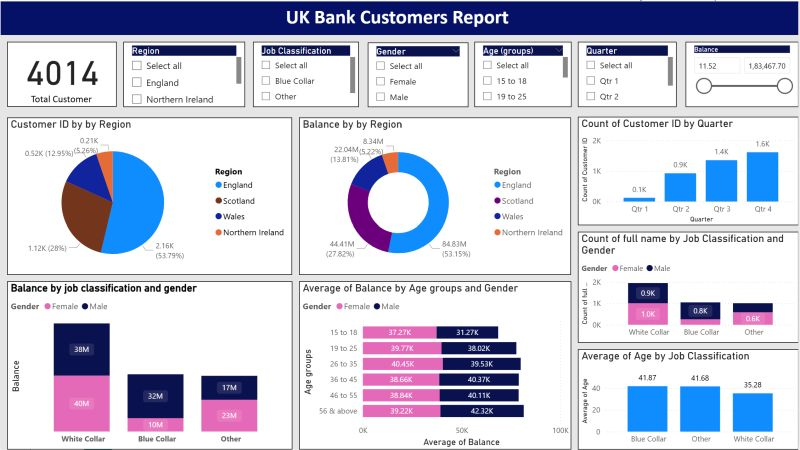

Layout of this report page (visuals, bound fields, positions):
{"tool":"powerbi","page":{"name":"Page 1","canvas":[1280,720],"ordinal":0},"visuals":[{"type":"card","fields":{"Values":["CountNonNull(P6-UK-Bank-Customers.Customer ID)"]},"box":[10.2,65,175.9,104.5],"z":0},{"type":"textbox","box":[0,0,1279.8,53.9],"z":1000},{"type":"pieChart","fields":{"Category":["P6-UK-Bank-Customers.Region"],"Y":["CountNonNull(P6-UK-Bank-Customers.Customer ID)"]},"box":[10.2,186.1,457.7,252.4],"z":2000},{"type":"donutChart","fields":{"Y":["Sum(P6-UK-Bank-Customers.Balance)"],"Category":["P6-UK-Bank-Customers.Region"]},"box":[479.4,186.1,436,252.4],"z":3000},{"type":"columnChart","title":"Balance by job classification and gender","fields":{"Y":["Sum(P6-UK-Bank-Customers.Balance)"],"Category":["P6-UK-Bank-Customers.Job Classification"],"Series":["P6-UK-Bank-Customers.Gender"]},"box":[9.9,449.3,457.8,270.7],"z":4000},{"type":"barChart","title":"Average of Balance by Age groups and Gender","fields":{"Category":["P6-UK-Bank-Customers.Age (groups)"],"Y":["Avg(P6-UK-Bank-Customers.Balance)"],"Series":["P6-UK-Bank-Customers.Gender"]},"box":[479.1,449.3,436.5,270.7],"z":5000},{"type":"columnChart","fields":{"Y":["Count(P6-UK-Bank-Customers.Customer ID)"],"Category":["P6-UK-Bank-Customers.Date Joined.Variation.Date Hierarchy.Quarter"]},"box":[925.5,185.7,354.3,174.3],"z":6000},{"type":"columnChart","fields":{"Y":["CountNonNull(P6-UK-Bank-Customers.Customer ID)"],"Category":["P6-UK-Bank-Customers.Job Classification"],"Series":["P6-UK-Bank-Customers.Gender"]},"box":[925.5,369.9,354.3,178.6],"z":7000},{"type":"clusteredColumnChart","fields":{"Y":["Avg(P6-UK-Bank-Customers.Age)"],"Category":["P6-UK-Bank-Customers.Job Classification"]},"box":[925.5,558.4,354.3,161.6],"z":8000},{"type":"slicer","fields":{"Values":["P6-UK-Bank-Customers.Region"]},"box":[197,65.2,195.6,104.9],"z":9000},{"type":"slicer","fields":{"Values":["P6-UK-Bank-Customers.Job Classification"]},"box":[405.4,65.2,170.1,104.9],"z":10000},{"type":"slicer","fields":{"Values":["P6-UK-Bank-Customers.Gender"]},"box":[588.8,65.4,161,104],"z":11000},{"type":"slicer","fields":{"Values":["P6-UK-Bank-Customers.Age (groups)"]},"box":[759.7,65.2,155.9,104.9],"z":12000},{"type":"slicer","fields":{"Values":["P6-UK-Bank-Customers.Date Joined.Variation.Date Hierarchy.Quarter"]},"box":[925.5,65.2,158.7,104.9],"z":13000},{"type":"slicer","fields":{"Values":["P6-UK-Bank-Customers.Balance"]},"box":[1098.4,65.2,181.4,104.9],"z":14000}]}

Visuals, with their boxes in screenshot pixels (x1, y1, x2, y2), scaled from the page's 1280x720 canvas onto the 800x450 screenshot:
card - CountNonNull(P6-UK-Bank-Customers.Customer ID): <region>6, 41, 116, 106</region>
textbox: <region>0, 0, 799, 34</region>
pieChart - P6-UK-Bank-Customers.Region x CountNonNull(P6-UK-Bank-Customers.Customer ID): <region>6, 116, 292, 274</region>
donutChart - Sum(P6-UK-Bank-Customers.Balance) x P6-UK-Bank-Customers.Region: <region>300, 116, 572, 274</region>
"Balance by job classification and gender" columnChart: <region>6, 281, 292, 449</region>
"Average of Balance by Age groups and Gender" barChart: <region>299, 281, 572, 449</region>
columnChart - Count(P6-UK-Bank-Customers.Customer ID) x P6-UK-Bank-Customers.Date Joined.Variation.Date Hierarchy.Quarter: <region>578, 116, 799, 225</region>
columnChart - CountNonNull(P6-UK-Bank-Customers.Customer ID) x P6-UK-Bank-Customers.Job Classification: <region>578, 231, 799, 343</region>
clusteredColumnChart - Avg(P6-UK-Bank-Customers.Age) x P6-UK-Bank-Customers.Job Classification: <region>578, 349, 799, 449</region>
slicer - P6-UK-Bank-Customers.Region: <region>123, 41, 245, 106</region>
slicer - P6-UK-Bank-Customers.Job Classification: <region>253, 41, 360, 106</region>
slicer - P6-UK-Bank-Customers.Gender: <region>368, 41, 469, 106</region>
slicer - P6-UK-Bank-Customers.Age (groups): <region>475, 41, 572, 106</region>
slicer - P6-UK-Bank-Customers.Date Joined.Variation.Date Hierarchy.Quarter: <region>578, 41, 678, 106</region>
slicer - P6-UK-Bank-Customers.Balance: <region>686, 41, 799, 106</region>
